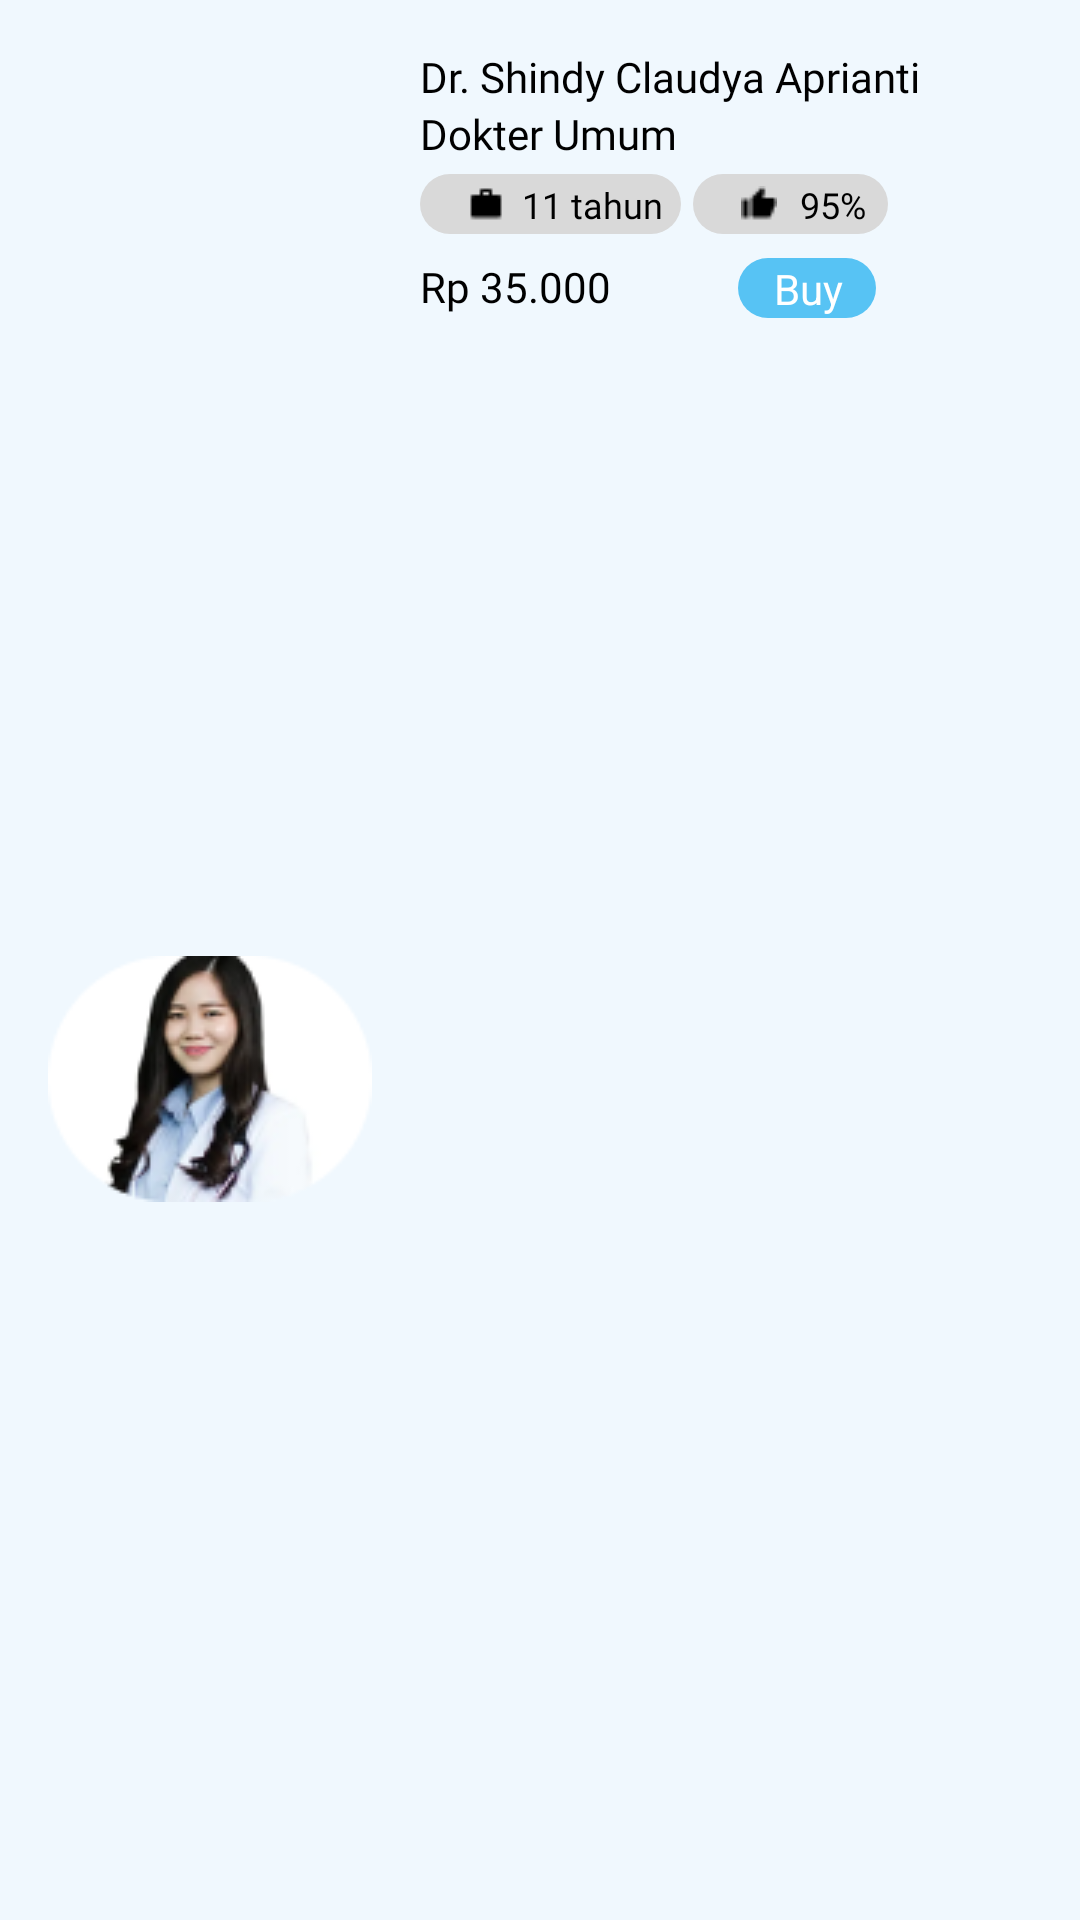

Named icons in this screenshot (1080×1920) and their centers, (x,y):
job: (486,204)
psikolog: (189,1079)
recomend: (759,203)
